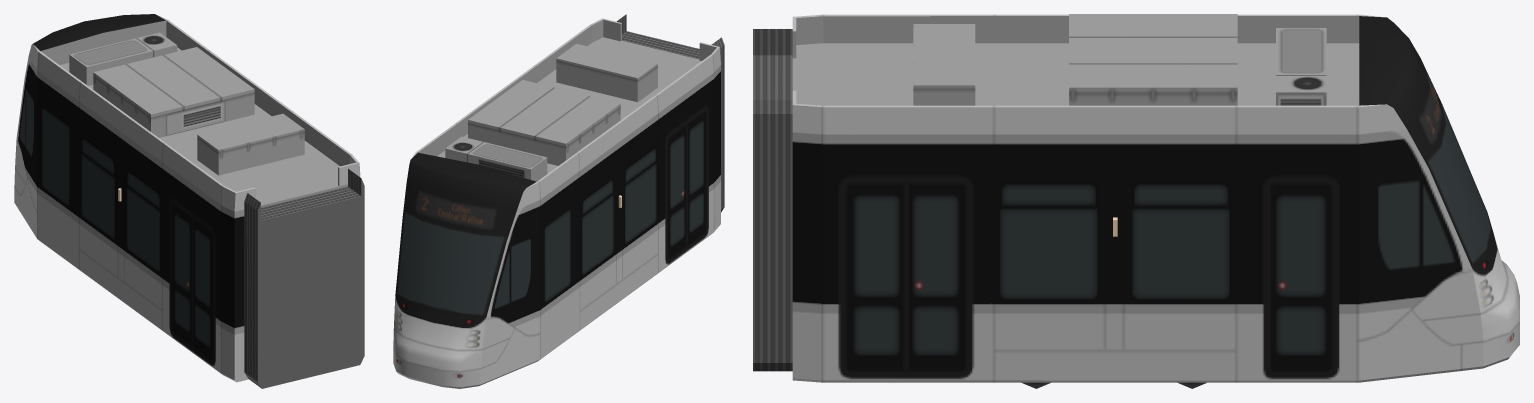
Rendered from AvenioHead.fbx.
3 renders of one model, left to right at view 1: azimuth 30°, elevation 25°; view 2: azimuth 150°, elevation 25°; view 3: azimuth 270°, elevation 25°, orthographic. The views are drawn at different scales.
Visible parts, largest first — view 1: Avenio0; view 2: Avenio0; view 3: Avenio0.
Part boxes in pixels (left/top/right/bottom): Avenio0: left=14, top=14, right=364, bottom=388; Avenio0: left=393, top=14, right=724, bottom=388; Avenio0: left=753, top=14, right=1519, bottom=388.
Bounding box in the file's own units: 240 × 354 × 800.
1 material, 1 textured.
